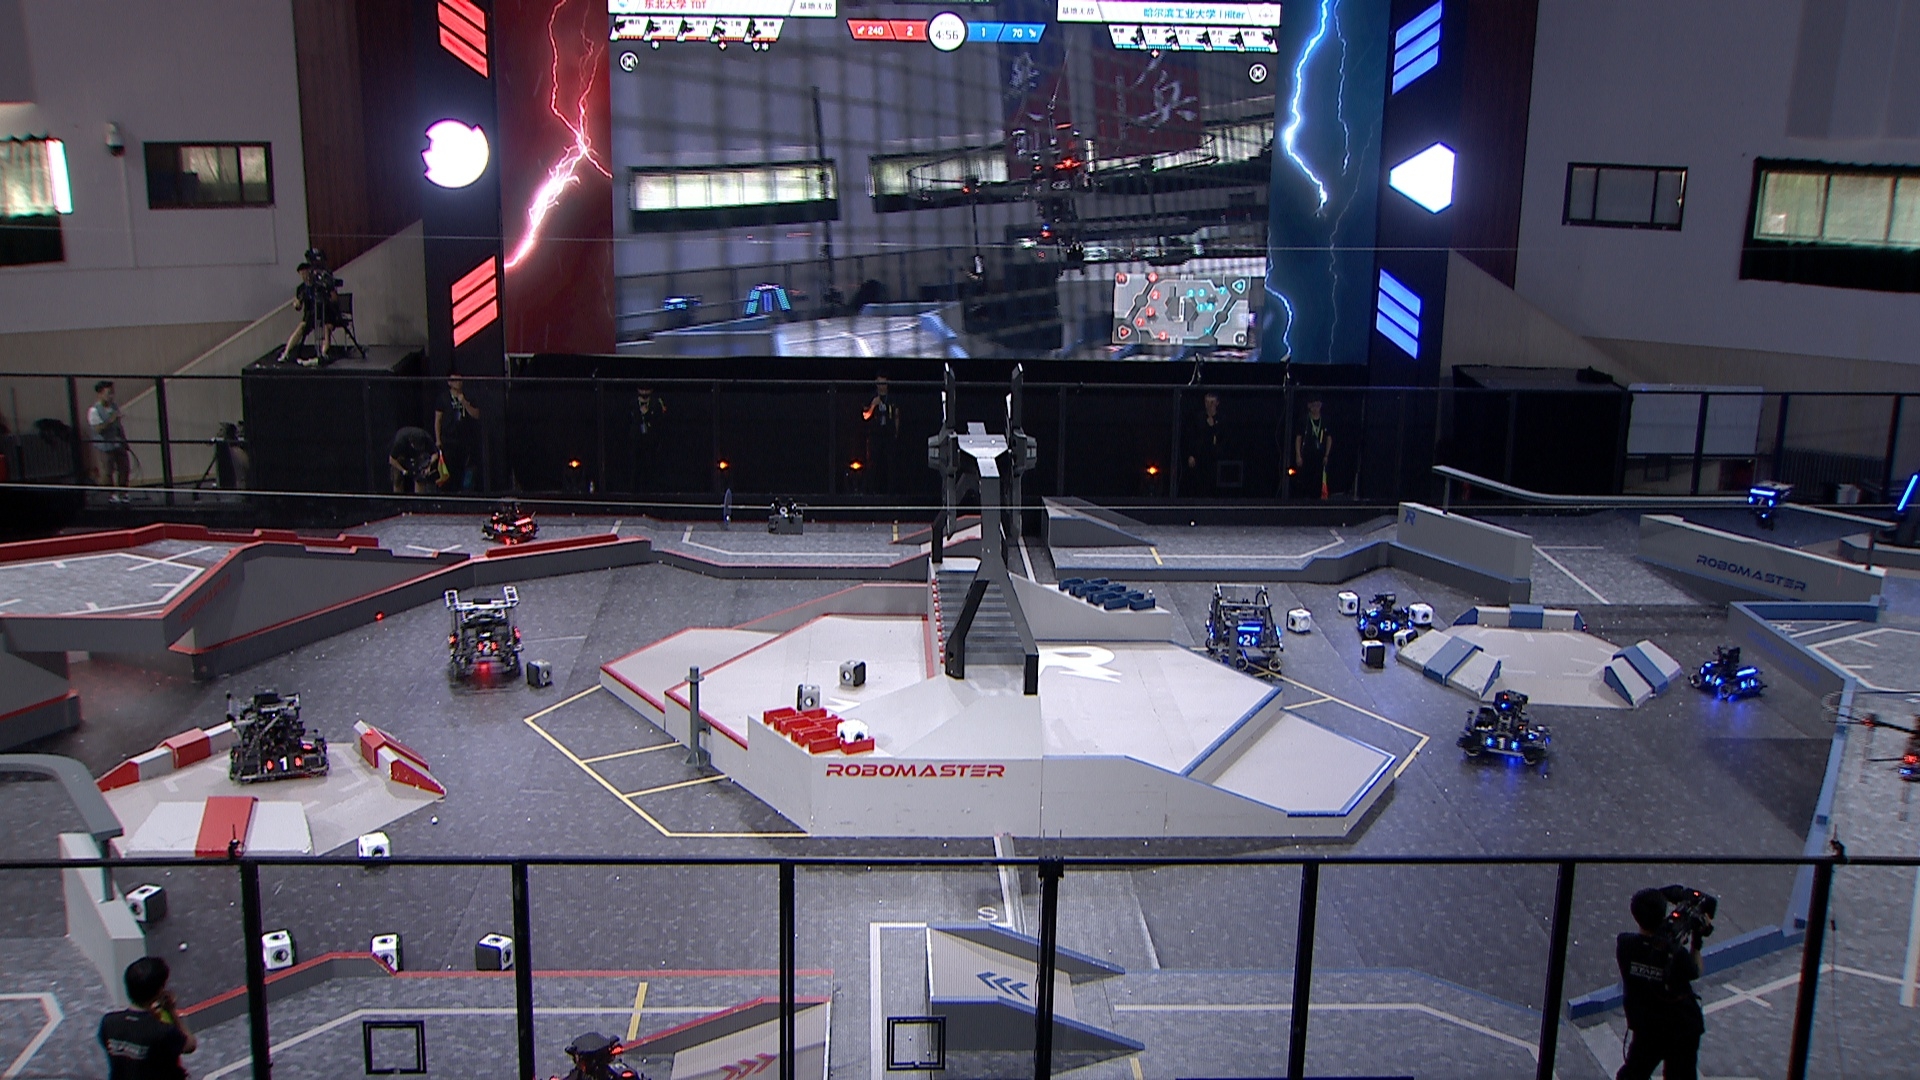armor: (1896, 475, 1920, 510), (266, 756, 301, 773), (609, 1058, 633, 1077), (1487, 736, 1515, 752), (1746, 495, 1774, 509), (1524, 721, 1542, 740), (477, 640, 496, 655), (316, 741, 332, 760), (301, 732, 315, 750), (1356, 613, 1370, 632), (1362, 604, 1379, 617), (1375, 621, 1396, 632), (1741, 678, 1759, 690), (1704, 674, 1718, 688), (520, 524, 535, 534), (1240, 636, 1255, 645), (493, 520, 505, 531), (1542, 733, 1552, 746), (1708, 655, 1720, 665)
base: (1874, 458, 1920, 550)
car: (219, 683, 335, 781), (1204, 580, 1283, 678), (443, 585, 526, 678), (1458, 688, 1553, 766), (535, 1029, 650, 1080), (1691, 638, 1766, 702), (1349, 584, 1415, 636), (485, 495, 542, 551)
ignore: (737, 285, 798, 323), (661, 291, 699, 323)
watcher: (1741, 479, 1789, 535)
